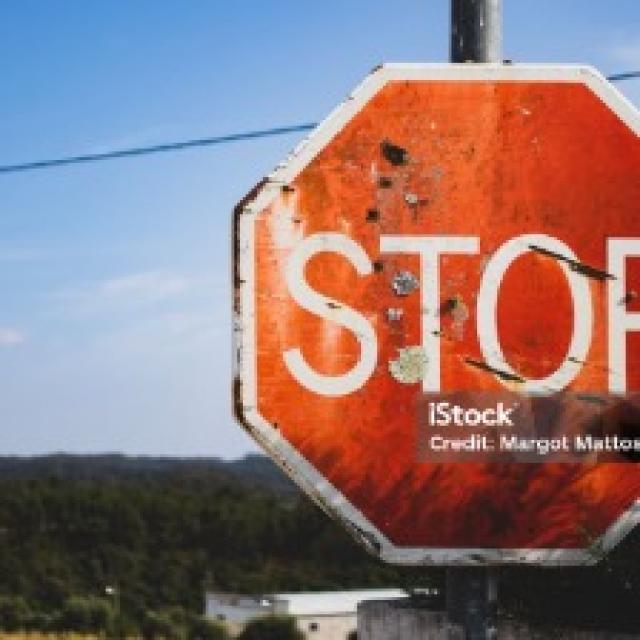stop: (230, 60, 638, 569)
